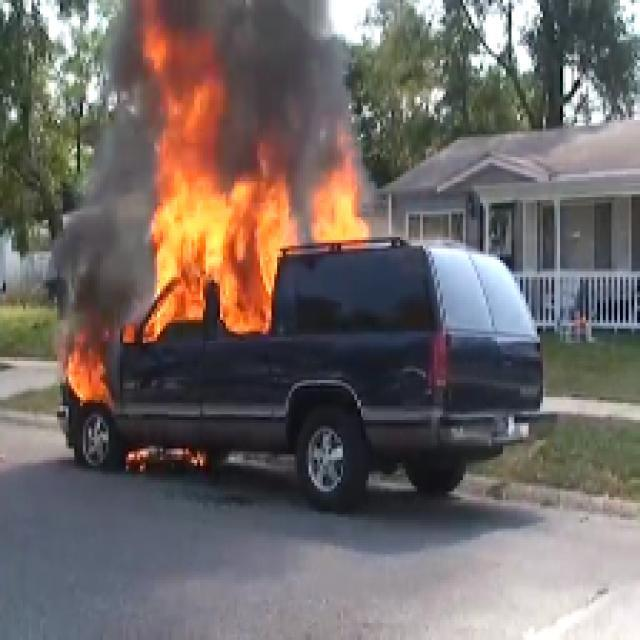Fire: (159, 178, 283, 328), (311, 183, 355, 238)
Smoke: (232, 0, 334, 169), (86, 128, 142, 324)
